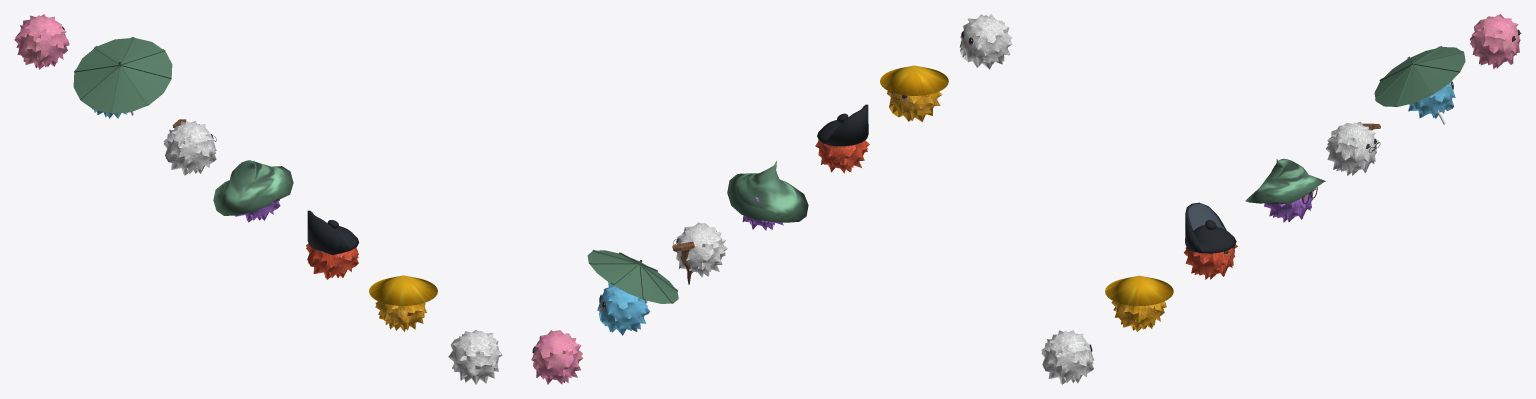
The model's file is PelusasText.fbx.
3 renders of one model, left to right at view 1: azimuth 30°, elevation 25°; view 2: azimuth 150°, elevation 25°; view 3: azimuth 330°, elevation 25°, orthographic.
Parts seen in each view (by area): view 1: Paraguas, NpcWicht, Pelusa_Campesina, NpcRed, Pelusa_Anciana, Pelusa_Rosa, Pelusa_Blanca; view 2: Paraguas, NpcWicht, Pelusa_Campesina, NpcRed, Pelusa_Blanca, Pelusa_Anciana, Pelusa_Rosa; view 3: Paraguas, NpcRed, NpcWicht, Pelusa_Campesina, Pelusa_Anciana, Pelusa_Blanca, Pelusa_Rosa.
Part boxes in pixels (bbox=[...]): Paraguas: bbox=[73, 37, 172, 118]; NpcWicht: bbox=[213, 160, 293, 222]; Pelusa_Campesina: bbox=[369, 275, 437, 331]; NpcRed: bbox=[306, 210, 358, 279]; Pelusa_Anciana: bbox=[163, 119, 216, 175]; Pelusa_Rosa: bbox=[14, 14, 69, 69]; Pelusa_Blanca: bbox=[448, 330, 502, 384]; Paraguas: bbox=[587, 249, 678, 335]; NpcWicht: bbox=[727, 161, 808, 230]; Pelusa_Campesina: bbox=[880, 65, 948, 122]; NpcRed: bbox=[815, 104, 869, 173]; Pelusa_Blanca: bbox=[959, 14, 1012, 69]; Pelusa_Anciana: bbox=[672, 222, 727, 284]; Pelusa_Rosa: bbox=[531, 330, 582, 384]; Paraguas: bbox=[1374, 46, 1465, 124]; NpcRed: bbox=[1184, 202, 1237, 279]; NpcWicht: bbox=[1245, 158, 1325, 222]; Pelusa_Campesina: bbox=[1105, 275, 1173, 331]; Pelusa_Anciana: bbox=[1326, 121, 1380, 175]; Pelusa_Blanca: bbox=[1041, 330, 1094, 384]; Pelusa_Rosa: bbox=[1469, 14, 1521, 68].
Bounding box in the file's own units: 348 × 284 × 3334.
